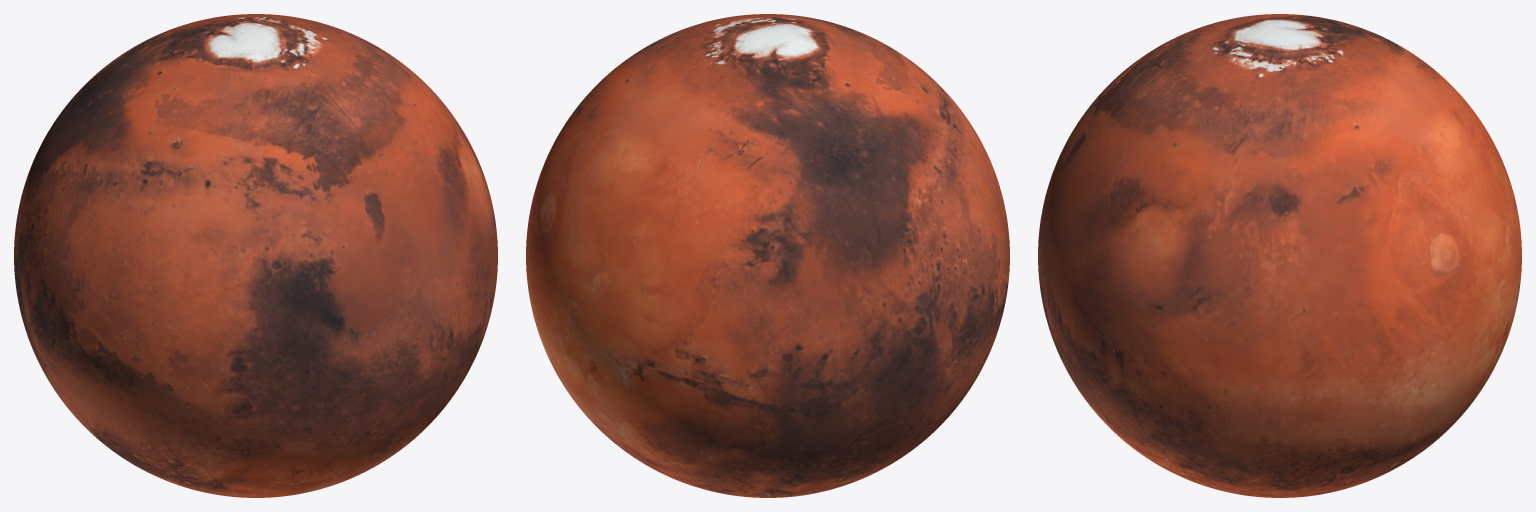
The picture shows the model from 3 angles, left to right: view 1: azimuth 30°, elevation 25°; view 2: azimuth 150°, elevation 25°; view 3: azimuth 270°, elevation 25°; orthographic projection.
Visible parts, largest first — view 1: Geode; view 2: Geode; view 3: Geode.
Part boxes in pixels (box(x1,y1,x2,y2)): Geode: box(14, 14, 497, 497); Geode: box(526, 14, 1009, 497); Geode: box(1038, 14, 1521, 497).
Size of the model in its own units: 200 by 200 by 200.
1 material, 1 textured.
